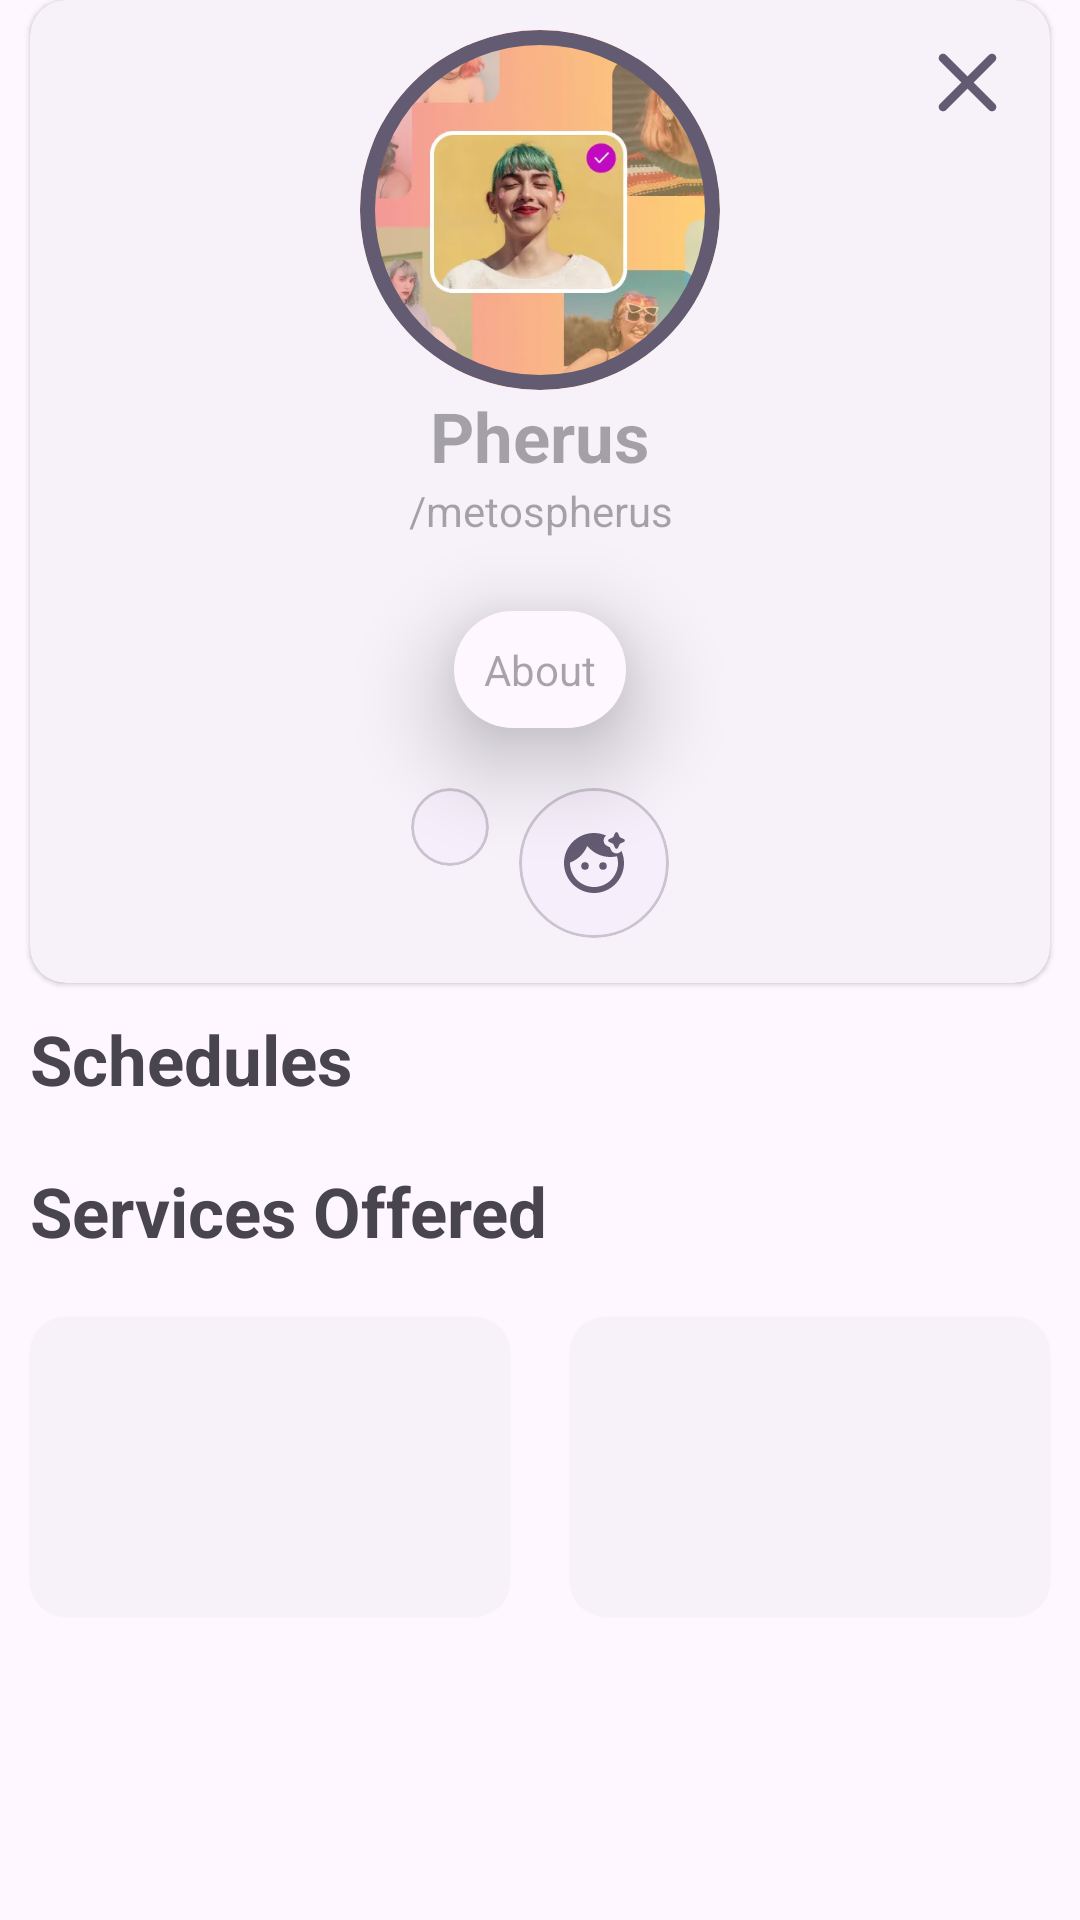

Where icons sit on this 1080x1920 app screen, as (x1=x1, y1=y1, x2=x2, y2=y2):
close: (x1=938, y1=53, x2=997, y2=112)
profile: (x1=564, y1=832, x2=625, y2=893)
